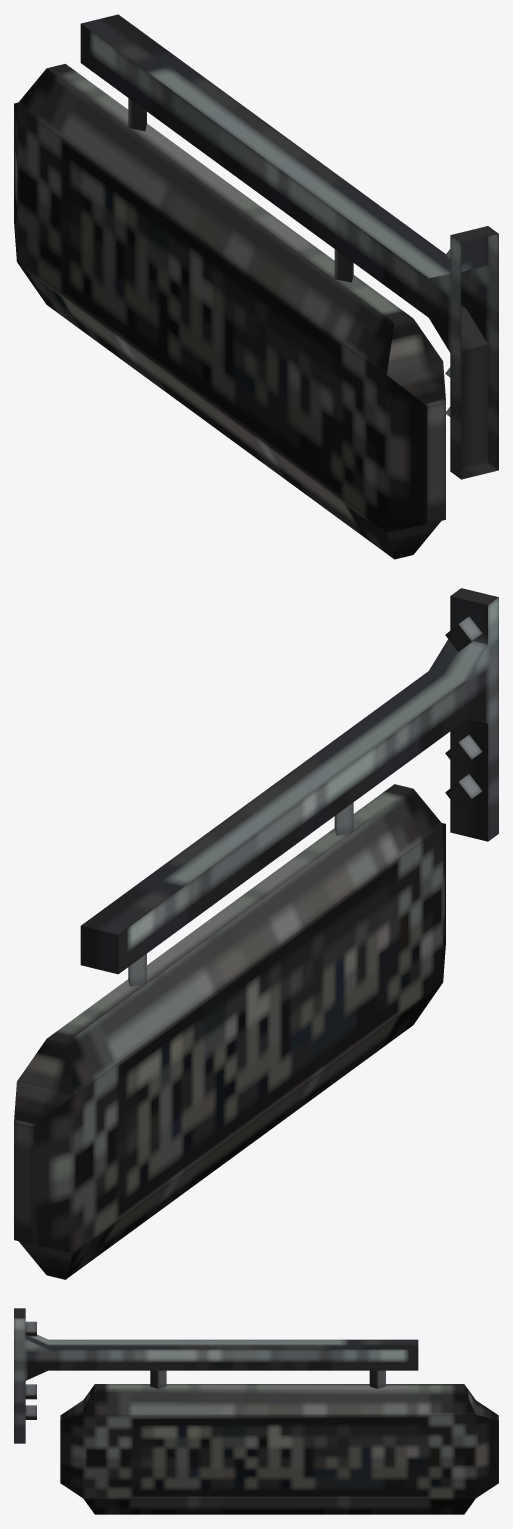
File: EnvBdgMD_City_B_Outdoor_Signbord_A.FBX
3 views of the same model, one above another, from view 1: azimuth 30°, elevation 25°; view 2: azimuth 150°, elevation 25°; view 3: azimuth 270°, elevation 25° (orthographic). The views are drawn at different scales.
Parts seen in each view (by area): view 1: EnvBdgMD_City_B_Outdoor_Signbord_A; view 2: EnvBdgMD_City_B_Outdoor_Signbord_A; view 3: EnvBdgMD_City_B_Outdoor_Signbord_A.
Boxes of the visible parts, x1,y1,x2,y2 form: EnvBdgMD_City_B_Outdoor_Signbord_A: [14, 14, 498, 559]; EnvBdgMD_City_B_Outdoor_Signbord_A: [14, 588, 498, 1279]; EnvBdgMD_City_B_Outdoor_Signbord_A: [14, 1308, 498, 1514].
Size of the model in its own units: 15 by 95 by 210.
Materials: 1 (1 with a texture image).
